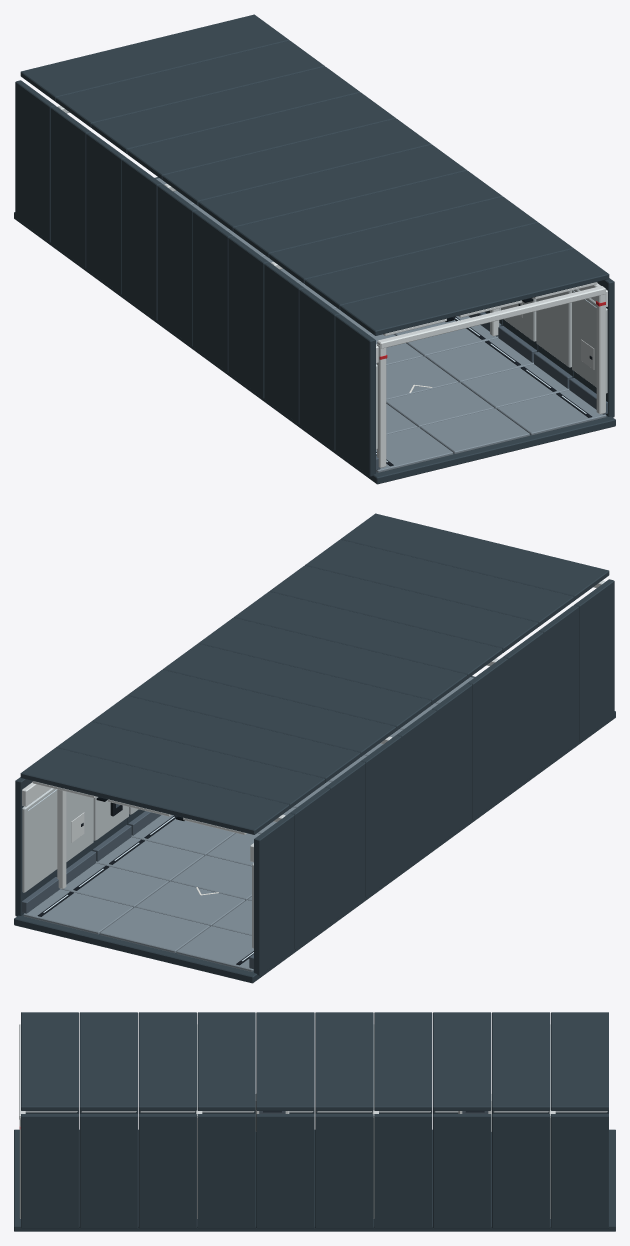
The model's file is corridor_static.obj.
3 views of the same model, one above another, from view 1: azimuth 30°, elevation 25°; view 2: azimuth 150°, elevation 25°; view 3: azimuth 270°, elevation 25° (orthographic). The views are drawn at different scales.
Visible parts, largest first — view 1: part_022, part_106, part_165, part_224, part_081, part_253, part_140, part_194, part_052, part_278, part_006, part_040 (+25 smaller); view 2: part_278, part_194, part_081, part_140, part_224, part_052, part_106, part_165, part_253, part_022, part_266, part_237 (+24 smaller); view 3: part_047, part_074, part_101, part_187, part_219, part_246, part_133, part_160, part_015, part_273, part_140, part_165 (+9 smaller).
Boxes of the visible parts, x1=… form: part_022: x1=340, y1=248, x2=609, y2=335; part_106: x1=233, y1=170, x2=502, y2=257; part_165: x1=162, y1=118, x2=431, y2=205; part_224: x1=91, y1=66, x2=360, y2=153; part_081: x1=269, y1=196, x2=538, y2=283; part_253: x1=56, y1=40, x2=324, y2=127; part_140: x1=198, y1=144, x2=466, y2=231; part_194: x1=127, y1=92, x2=395, y2=179; part_052: x1=305, y1=222, x2=573, y2=309; part_278: x1=20, y1=14, x2=289, y2=101; part_006: x1=335, y1=314, x2=375, y2=476; part_040: x1=299, y1=288, x2=340, y2=450; part_278: x1=20, y1=747, x2=289, y2=834; part_194: x1=127, y1=669, x2=396, y2=756; part_081: x1=269, y1=565, x2=538, y2=652; part_140: x1=198, y1=617, x2=467, y2=704; part_224: x1=91, y1=695, x2=360, y2=782; part_052: x1=305, y1=539, x2=573, y2=626; part_106: x1=234, y1=591, x2=502, y2=678; part_165: x1=163, y1=643, x2=431, y2=730; part_253: x1=56, y1=721, x2=324, y2=808; part_022: x1=340, y1=513, x2=609, y2=600; part_266: x1=254, y1=813, x2=294, y2=975; part_237: x1=289, y1=787, x2=330, y2=949; part_047: x1=79, y1=1114, x2=137, y2=1228; part_074: x1=138, y1=1114, x2=196, y2=1228; part_101: x1=197, y1=1114, x2=255, y2=1228; part_187: x1=374, y1=1114, x2=432, y2=1228; part_219: x1=433, y1=1114, x2=491, y2=1228; part_246: x1=492, y1=1114, x2=550, y2=1228; part_133: x1=256, y1=1114, x2=314, y2=1228; part_160: x1=315, y1=1114, x2=373, y2=1228; part_015: x1=21, y1=1114, x2=78, y2=1228; part_273: x1=551, y1=1114, x2=608, y2=1228; part_140: x1=256, y1=1012, x2=314, y2=1110; part_165: x1=315, y1=1012, x2=373, y2=1110.
Size of the model in its own units: 7.16 by 4.2 by 18.4.
